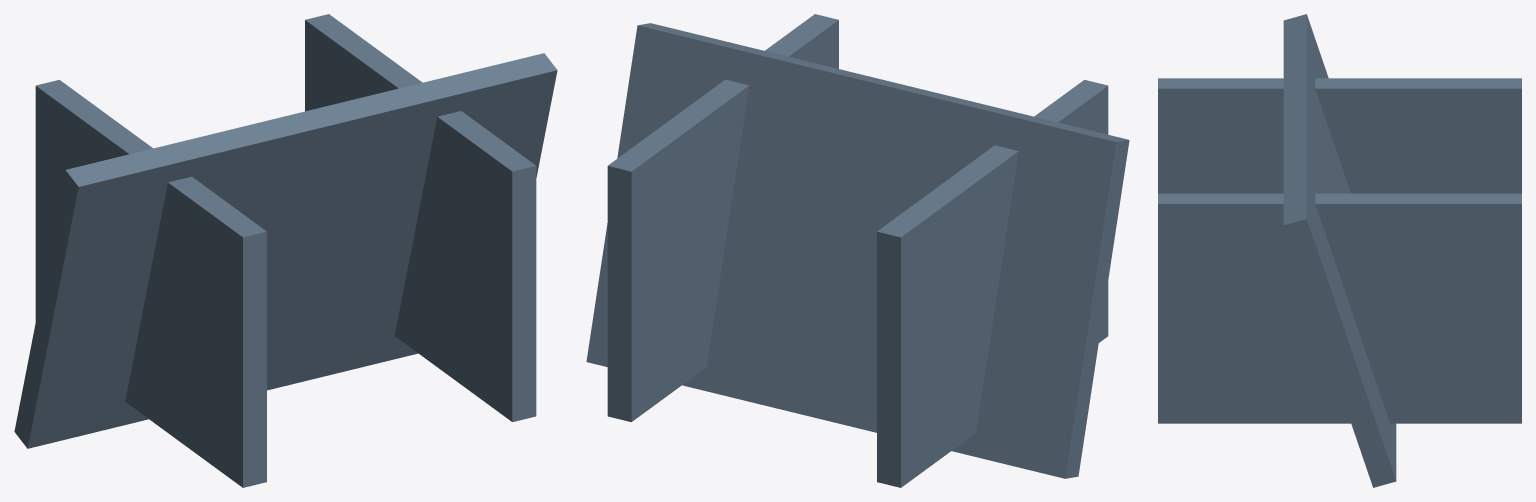
File: glass_kit.glb
3 renders of one model, left to right at view 1: azimuth 30°, elevation 25°; view 2: azimuth 150°, elevation 25°; view 3: azimuth 270°, elevation 25°, orthographic. The views are drawn at different scales.
Visible parts, largest first — view 1: windshield, side_l, side_r; view 2: windshield, side_l, side_r; view 3: side_r, side_l, windshield.
Part boxes in pixels (x1=…): windshield: x1=14, y1=53, x2=557, y2=448; side_l: x1=35, y1=80, x2=266, y2=487; side_r: x1=305, y1=14, x2=536, y2=421; windshield: x1=586, y1=23, x2=1129, y2=478; side_l: x1=877, y1=80, x2=1108, y2=487; side_r: x1=607, y1=14, x2=838, y2=421; side_r: x1=1158, y1=193, x2=1521, y2=423; side_l: x1=1158, y1=78, x2=1521, y2=193; windshield: x1=1283, y1=14, x2=1396, y2=487.
Bounding box in the file's own units: 1.6 × 0.979 × 1.2.
